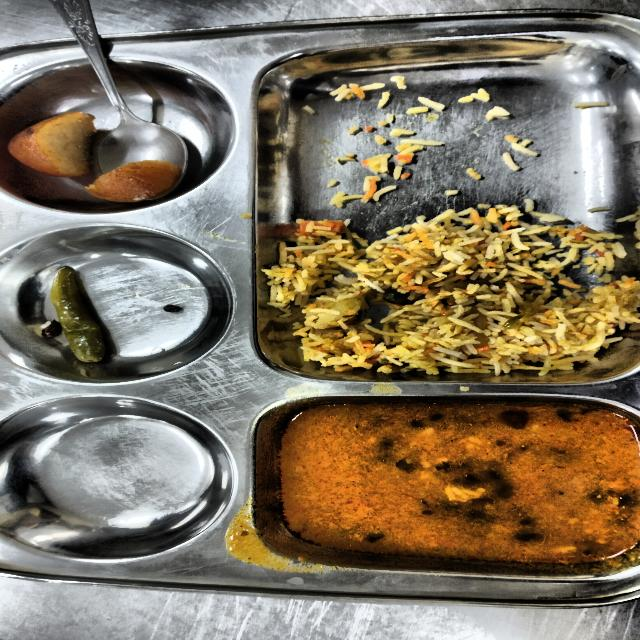pudi: (8, 112, 96, 178), (85, 160, 182, 202)
